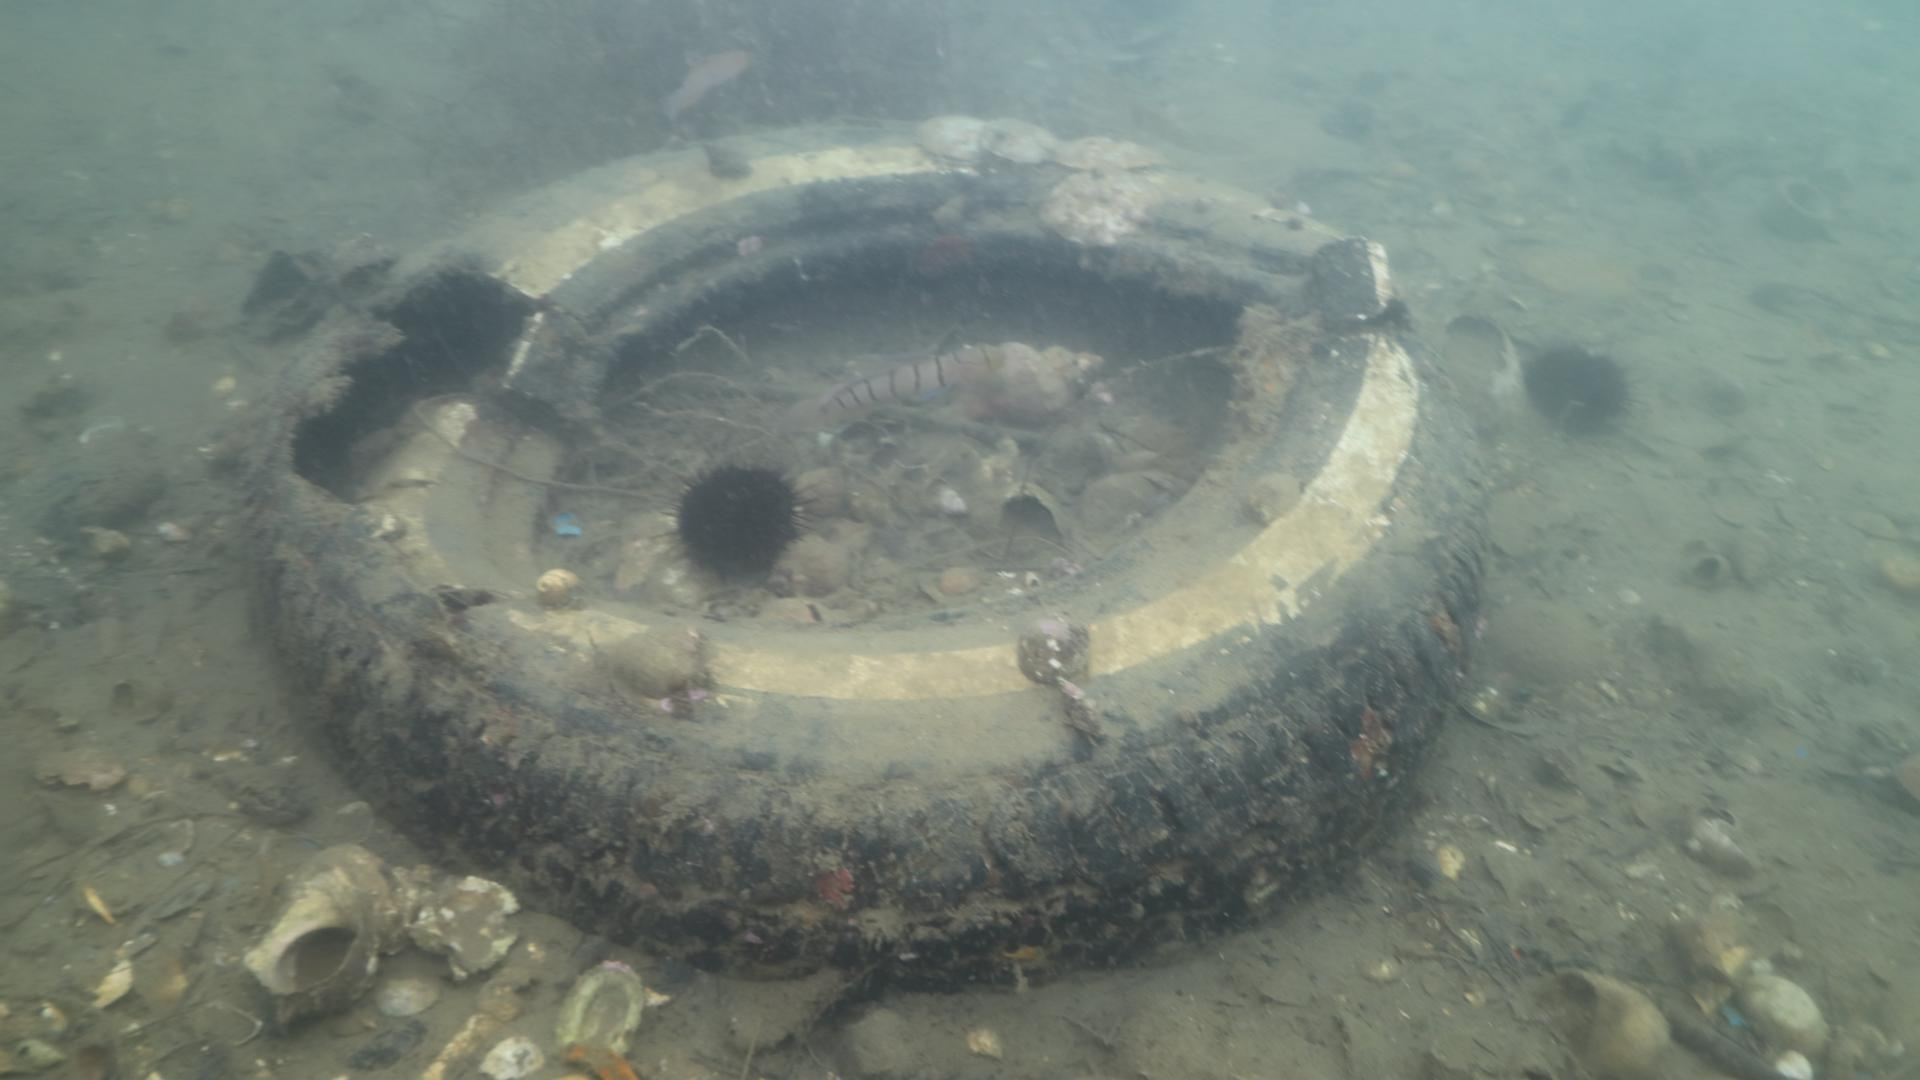tire: (240, 111, 1493, 993)
